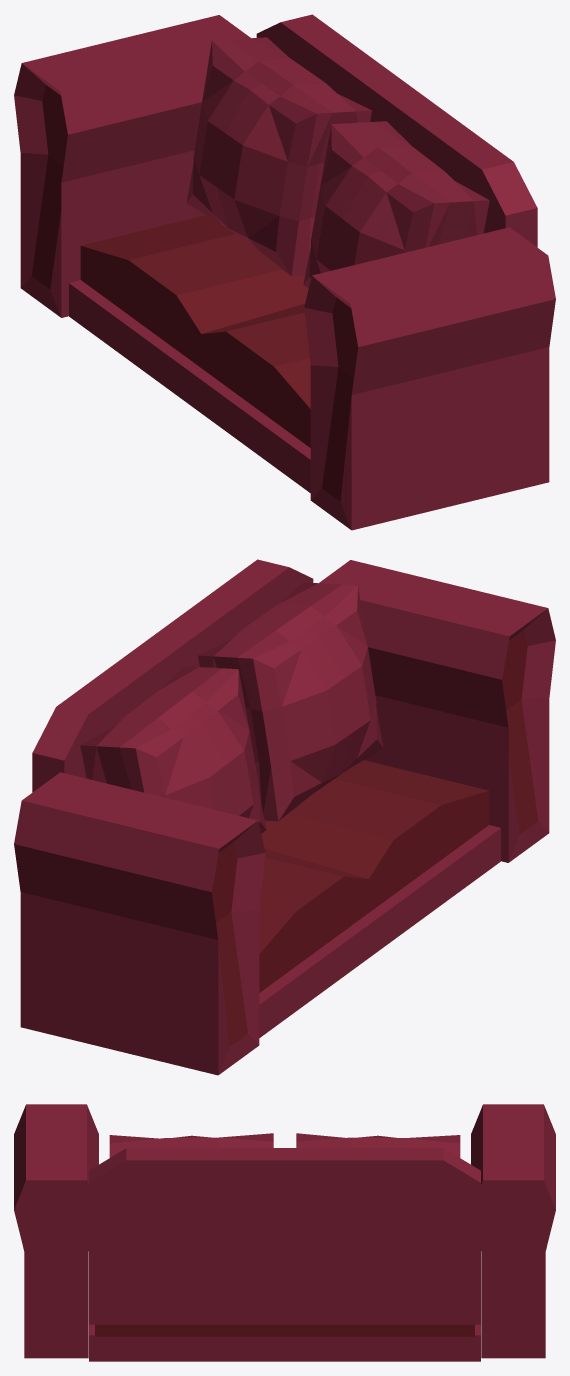
Rendered from kanapa.fbx.
The picture shows the model from 3 angles, top to bottom: view 1: azimuth 30°, elevation 25°; view 2: azimuth 150°, elevation 25°; view 3: azimuth 270°, elevation 25°; orthographic projection. The views are drawn at different scales.
Visible parts, largest first — view 1: Cube.006; view 2: Cube.006; view 3: Cube.006.
Part boxes in pixels (bbox=[...]): Cube.006: bbox=[14, 14, 555, 530]; Cube.006: bbox=[14, 559, 555, 1075]; Cube.006: bbox=[14, 1104, 555, 1361].
Size of the model in its own units: 641 by 717 by 1682.
